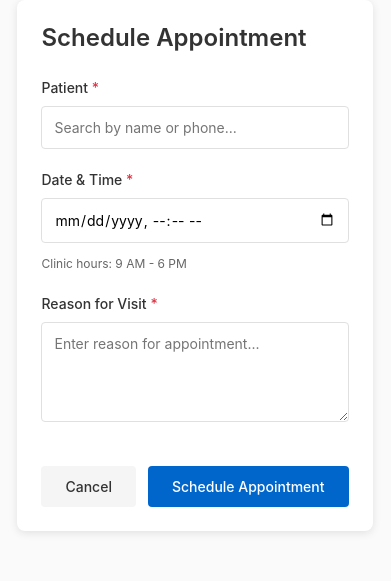
Test case: ScheduleAppointmentForm › Date & Time Validation › should show error for past date
Step 1. Type "2020-01-01T10:00" into the 2nd field → (195, 220), box [42,198,349,243]
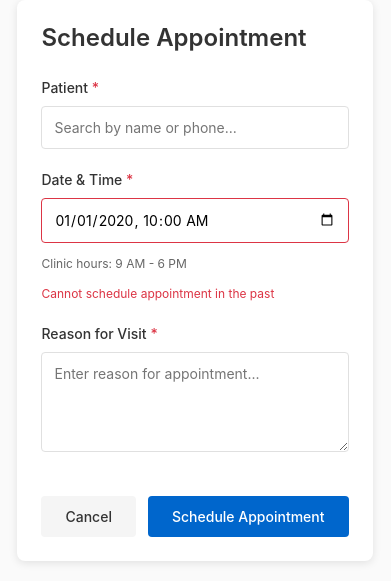
Now the text "Cannot schedule appointment in the past" is shown, box [42,286,274,301]
